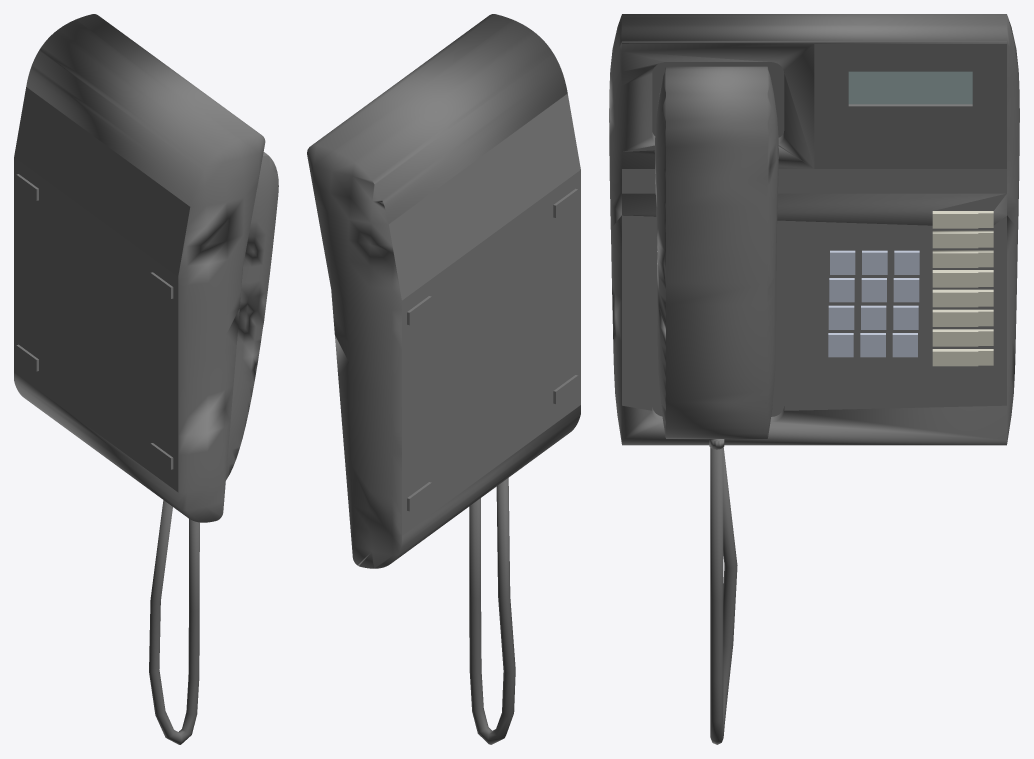
File: nood telefoon.fbx
3 views of the same model, side by side, from view 1: azimuth 30°, elevation 25°; view 2: azimuth 150°, elevation 25°; view 3: azimuth 270°, elevation 25° (orthographic). The views are drawn at different scales.
Visible parts, largest first — view 1: group_0; view 2: group_0; view 3: group_0.
Part boxes in pixels (box(x1,y1,x2,y2)): group_0: box(14, 14, 278, 744); group_0: box(307, 14, 580, 744); group_0: box(609, 14, 1019, 744).
Size of the model in its own units: 0.1172 by 0.5805 by 0.2918.
